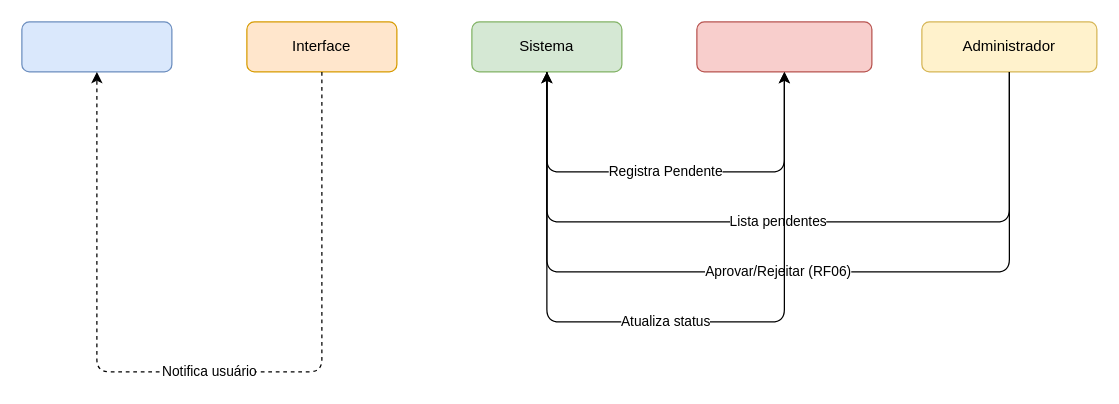
Image size: 1119x404. Some labels were removed from this diagram. Each missing label, with the box of its shape:
Banco de Dados: (696, 21, 872, 72)
Usuário: (21, 21, 172, 72)
